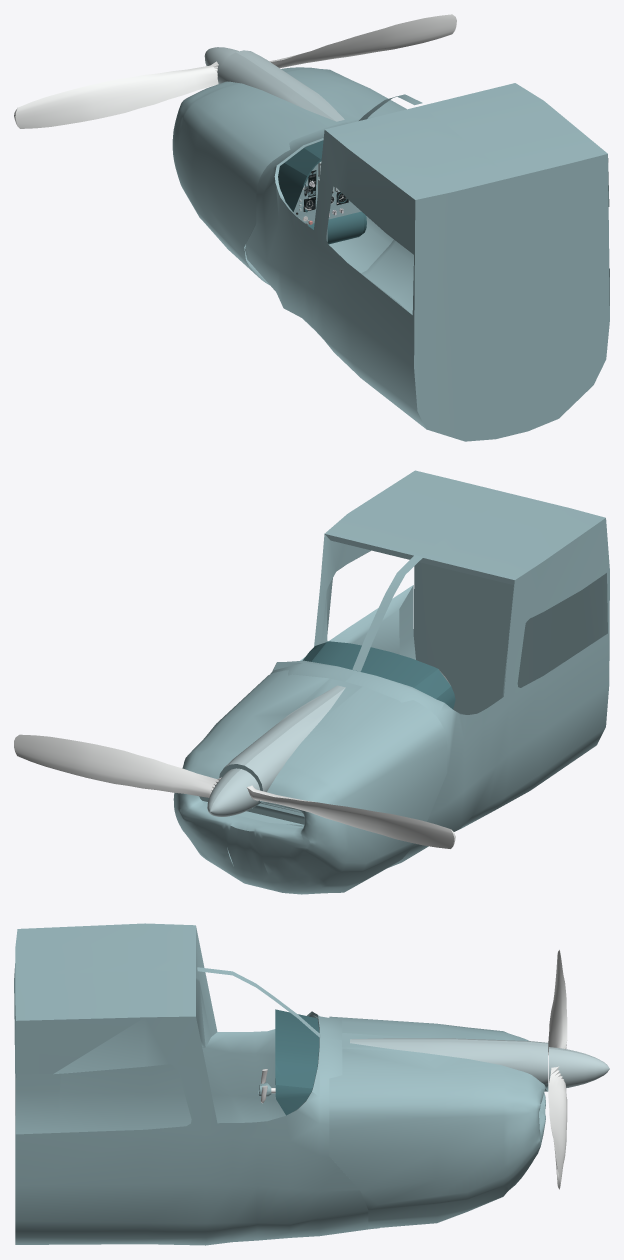
The picture shows the model from 3 angles, top to bottom: view 1: azimuth 30°, elevation 25°; view 2: azimuth 150°, elevation 25°; view 3: azimuth 270°, elevation 25°; orthographic projection.
Visible parts, largest first — view 1: Avion, Avant, Helices_2, Base, Cylinder01; view 2: Avion, Avant, Helices_2, Base, Helices, Plane01; view 3: Avion, Avant, Base, Helices_2, Helices, Plane01.
Part boxes in pixels (x1,y1,x2,y2): Avion: [245, 83, 609, 441]; Avant: [172, 50, 406, 285]; Helices_2: [14, 14, 456, 128]; Base: [278, 140, 361, 224]; Cylinder01: [308, 211, 366, 244]; Avion: [270, 470, 609, 867]; Avant: [173, 670, 447, 894]; Helices_2: [14, 734, 455, 848]; Base: [303, 641, 455, 709]; Helices: [207, 768, 259, 816]; Plane01: [352, 555, 423, 671]; Avion: [14, 923, 379, 1245]; Avant: [329, 1016, 548, 1228]; Base: [275, 1009, 319, 1115]; Helices_2: [548, 950, 567, 1189]; Helices: [549, 1047, 609, 1088]; Plane01: [197, 967, 320, 1038].
Bounding box in the file's own units: 6387 × 3653 × 7614.
28 materials, 19 textured.
